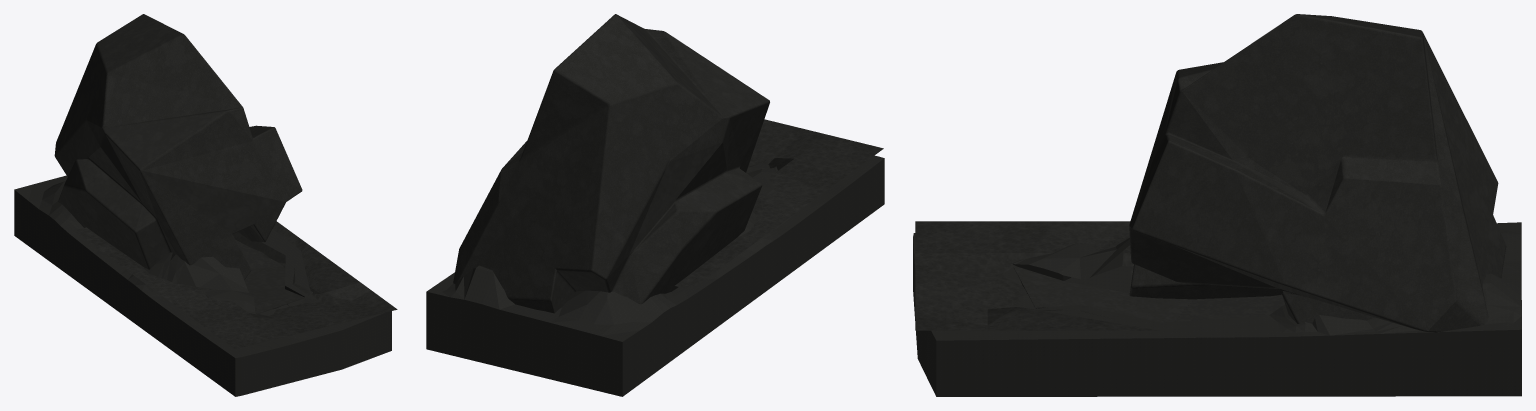
The model's file is G11_hyperobject.glb.
3 views of the same model, side by side, from view 1: azimuth 30°, elevation 25°; view 2: azimuth 150°, elevation 25°; view 3: azimuth 270°, elevation 25° (orthographic). The views are drawn at different scales.
Parts seen in each view (by area): view 1: skin, ground, Plane.050, Object_1946; view 2: skin, ground, Plane.050; view 3: skin, ground, Plane.050, Object_1946.
Boxes of the visible parts, left/top/right/bottom form: skin: left=54, top=14, right=302, bottom=279; ground: left=14, top=175, right=391, bottom=396; Plane.050: left=73, top=221, right=397, bottom=349; Object_1946: left=232, top=232, right=312, bottom=313; skin: left=453, top=14, right=769, bottom=313; ground: left=426, top=155, right=884, bottom=396; Plane.050: left=675, top=119, right=883, bottom=289; skin: left=1129, top=14, right=1506, bottom=332; ground: left=913, top=222, right=1521, bottom=396; Plane.050: left=915, top=221, right=1161, bottom=330; Object_1946: left=1013, top=266, right=1284, bottom=322.
Bounding box in the file's own units: 57.33 × 77.24 × 129.
Materials: 2 (2 with a texture image).
